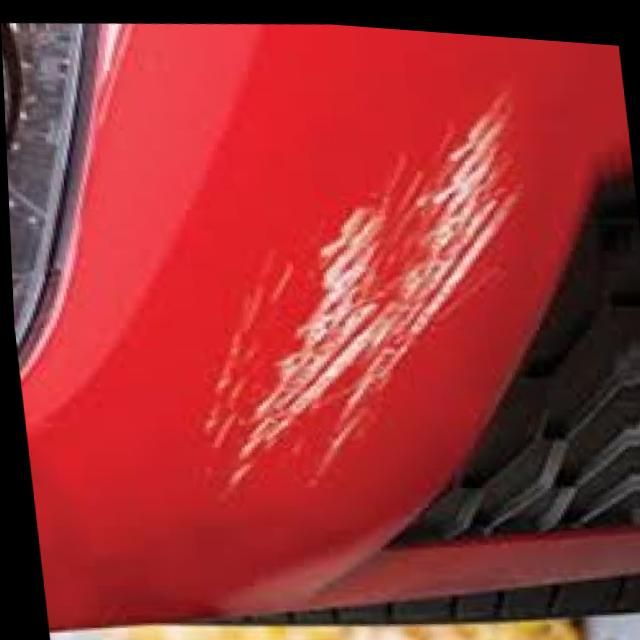Scratch: (223, 90, 533, 468)
